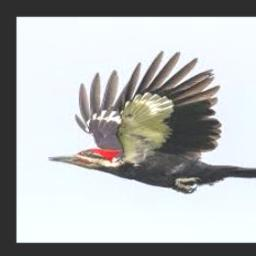Woodpecker: (46, 50, 256, 194)
